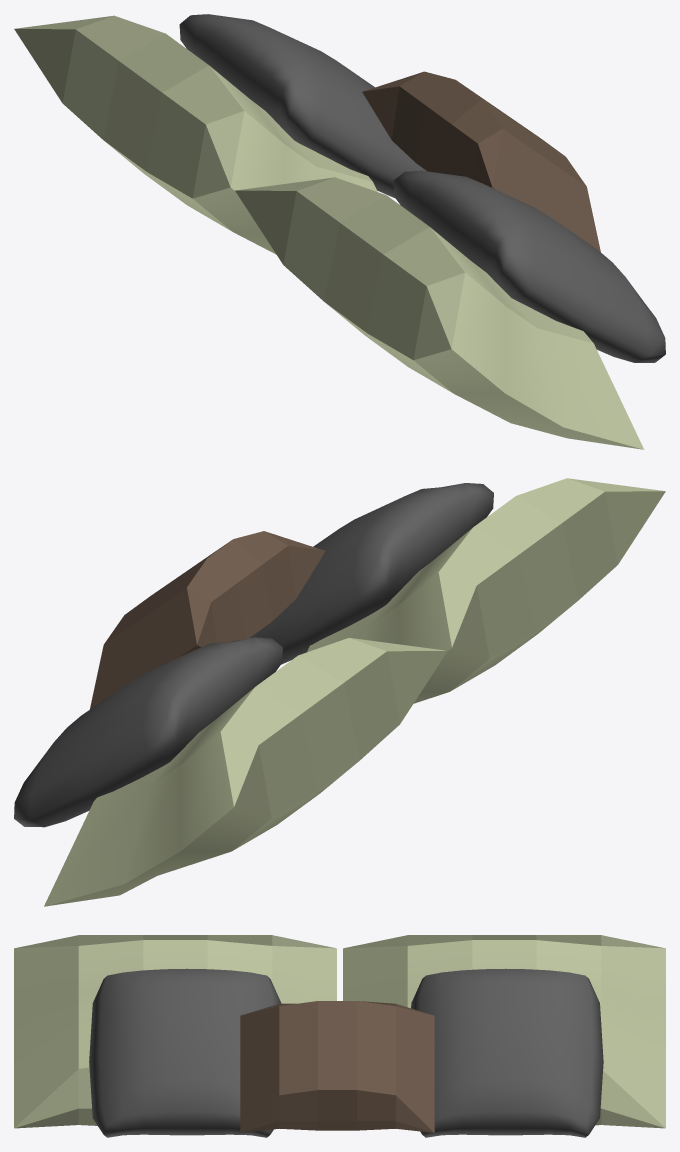
The model's file is Bedroom_2_Pillows.fbx.
The picture shows the model from 3 angles, top to bottom: view 1: azimuth 30°, elevation 25°; view 2: azimuth 150°, elevation 25°; view 3: azimuth 270°, elevation 25°; orthographic projection. The views are drawn at different scales.
Visible parts, largest first — view 1: Bedroom_2_Pillows; view 2: Bedroom_2_Pillows; view 3: Bedroom_2_Pillows.
Part boxes in pixels (box(x1,y1,x2,y2)): Bedroom_2_Pillows: box(14, 14, 665, 449); Bedroom_2_Pillows: box(14, 478, 665, 906); Bedroom_2_Pillows: box(14, 935, 665, 1137).
Bounding box in the file's own units: 75.4 × 47.1 × 179.
